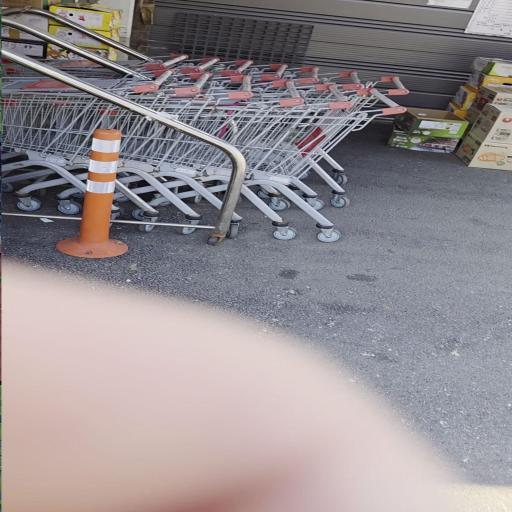combined_cart: (1, 15, 408, 244), (0, 7, 411, 208)
